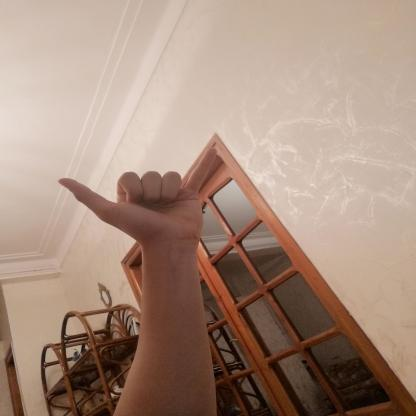YA: (48, 138, 235, 251)
